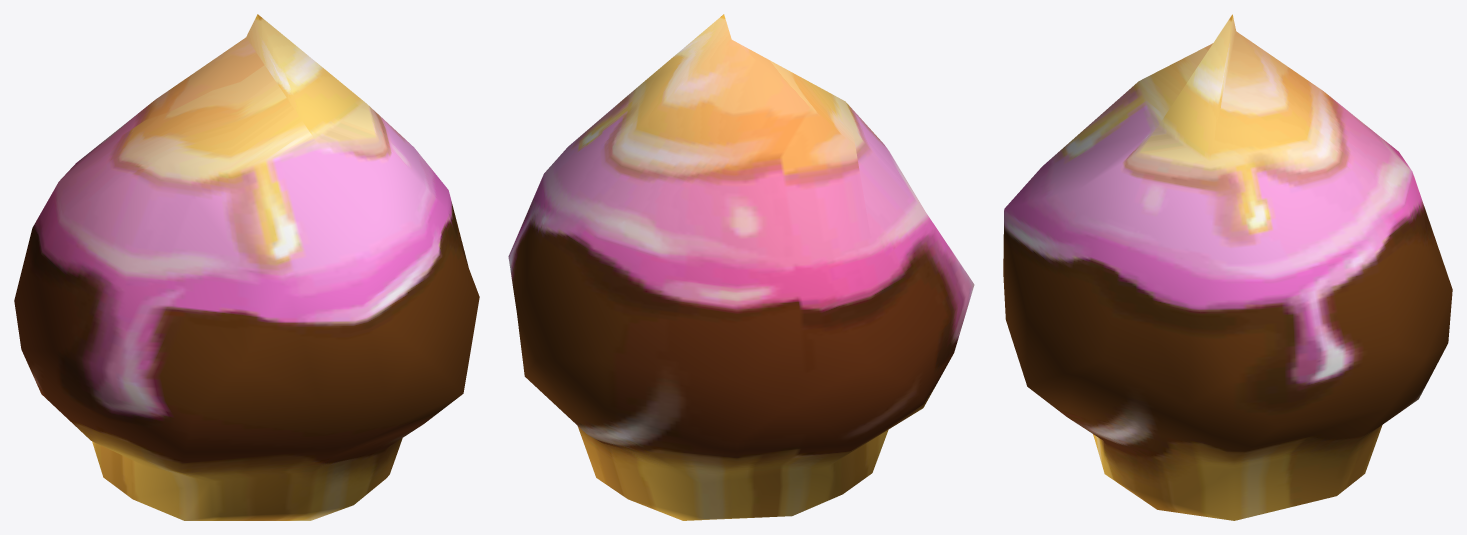
File: cupcake.obj
3 views of the same model, side by side, from view 1: azimuth 30°, elevation 25°; view 2: azimuth 150°, elevation 25°; view 3: azimuth 270°, elevation 25° (orthographic).
Parts seen in each view (by area): view 1: cupcake_meshout; view 2: cupcake_meshout; view 3: cupcake_meshout.
Boxes of the visible parts, x1,y1,x2,y2 form: cupcake_meshout: (14, 14, 479, 520); cupcake_meshout: (508, 14, 974, 520); cupcake_meshout: (1003, 14, 1452, 520).
Size of the model in its own units: 28.22 by 31.34 by 27.43.
1 material, 1 textured.
